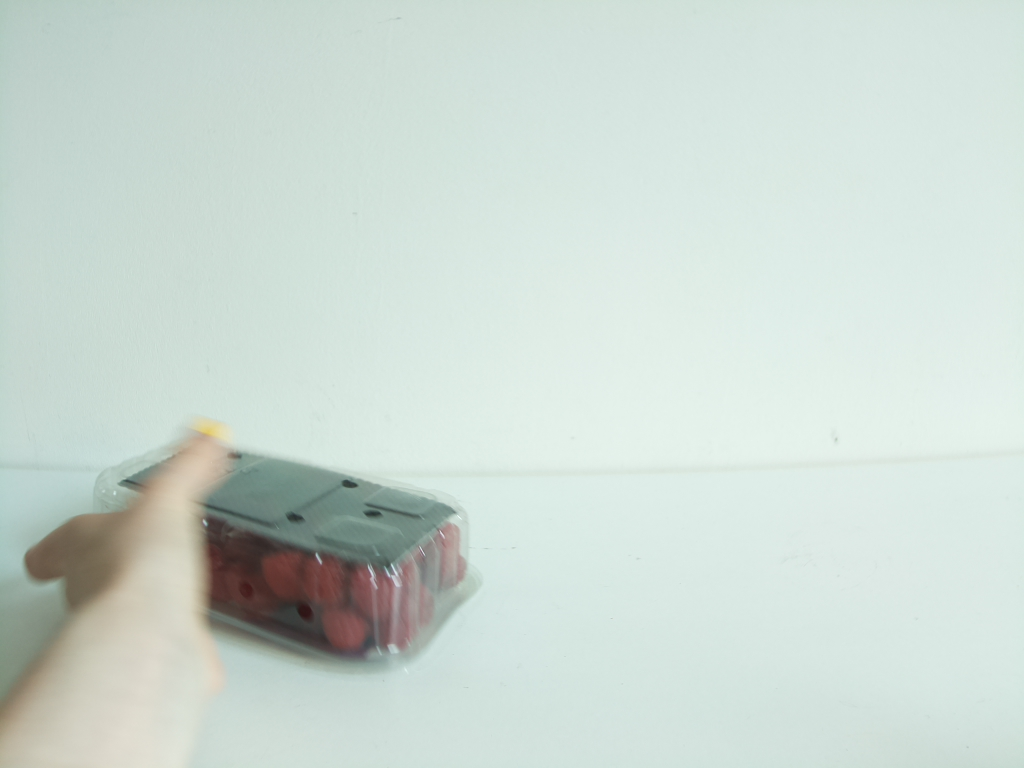soft-fruit: (89, 438, 484, 670)
